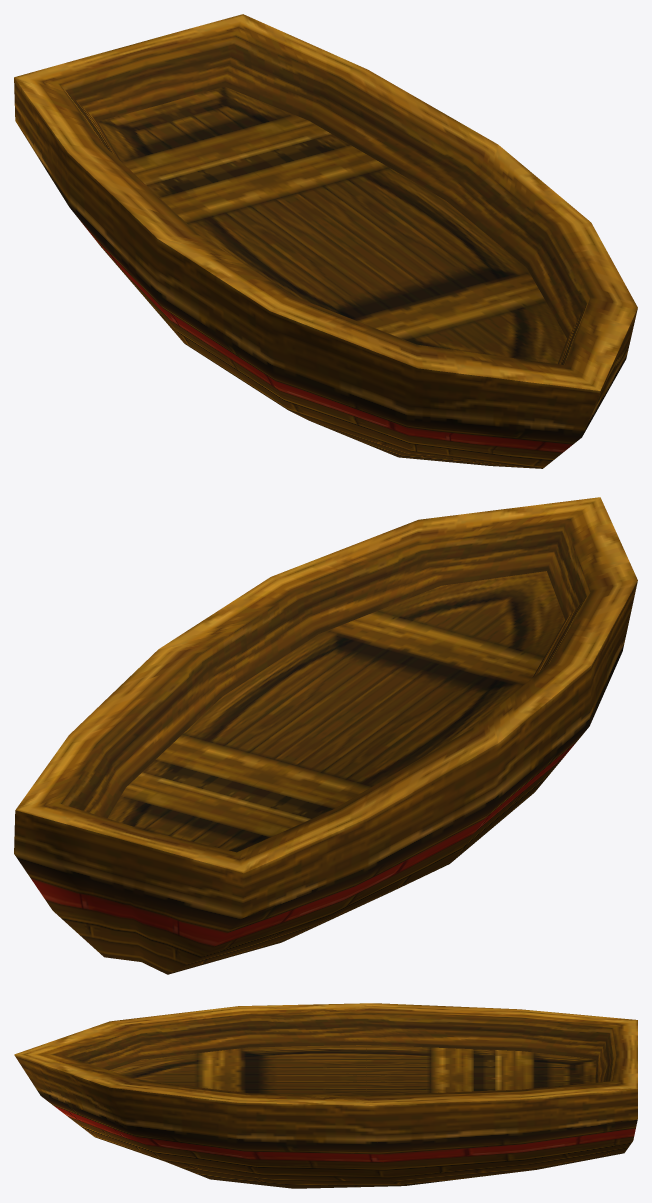
The model's file is INST_LT_BOAT_IDLE.fbx.
3 renders of one model, top to bottom at view 1: azimuth 30°, elevation 25°; view 2: azimuth 150°, elevation 25°; view 3: azimuth 270°, elevation 25°, orthographic. The views are drawn at different scales.
Parts seen in each view (by area): view 1: INST_LT_BOAT_IDLE; view 2: INST_LT_BOAT_IDLE; view 3: INST_LT_BOAT_IDLE.
Part boxes in pixels (x1,y1,x2,y2): INST_LT_BOAT_IDLE: [14, 14, 637, 468]; INST_LT_BOAT_IDLE: [14, 497, 637, 974]; INST_LT_BOAT_IDLE: [14, 1003, 637, 1188].
Bounding box in the file's own units: 11813 × 6120 × 28179.
2 materials, 2 textured.
